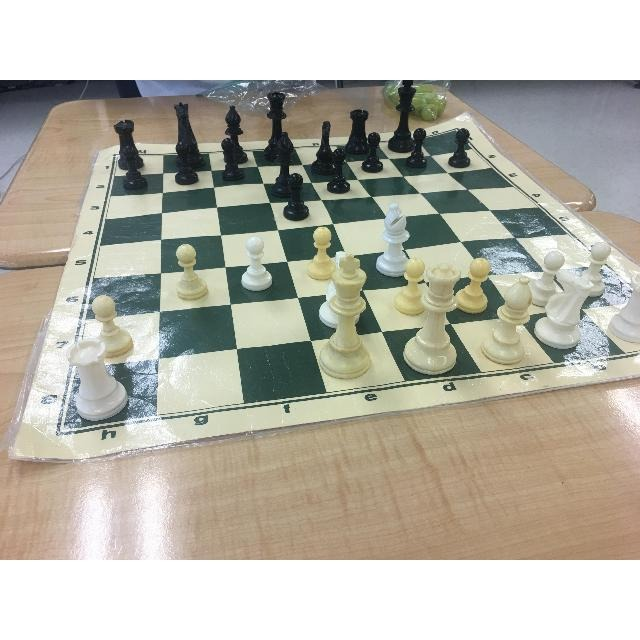black-bishop: (220, 102, 250, 158), (271, 130, 293, 195)
black-king: (392, 81, 413, 154)
black-knight: (169, 100, 201, 163), (312, 119, 334, 176)
black-pawn: (450, 128, 490, 166), (119, 146, 148, 188), (172, 142, 198, 184), (286, 171, 308, 217), (363, 133, 386, 175), (214, 140, 240, 176), (330, 145, 348, 189), (411, 128, 427, 170)
black-queen: (263, 93, 288, 155)
black-rook: (112, 120, 144, 168), (346, 107, 370, 155)
white-bishop: (498, 273, 533, 369), (377, 201, 410, 270)
white-king: (329, 252, 371, 388)
white-knight: (537, 272, 597, 344)
white-pawn: (86, 288, 133, 351), (162, 238, 203, 296), (464, 252, 497, 322), (232, 228, 268, 283), (580, 234, 614, 283), (303, 220, 333, 269), (399, 256, 424, 306), (535, 246, 559, 294)
white-queen: (423, 261, 461, 368)
white-rook: (59, 340, 121, 424)
